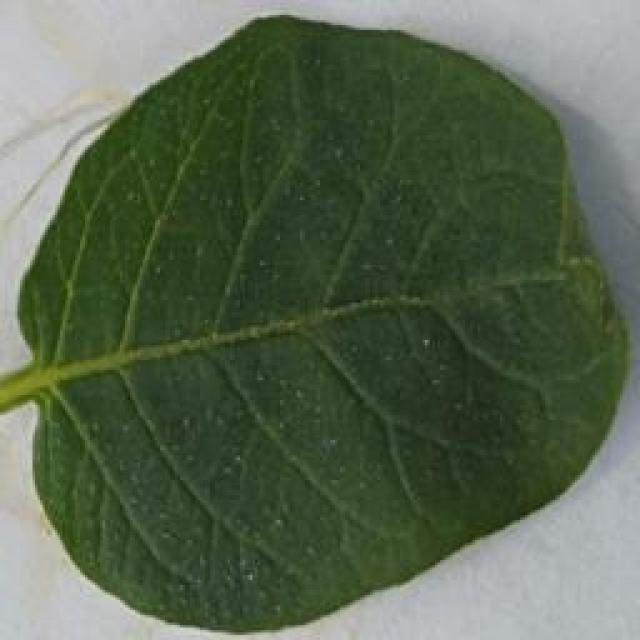Potato_Healthy: (8, 7, 639, 635)
